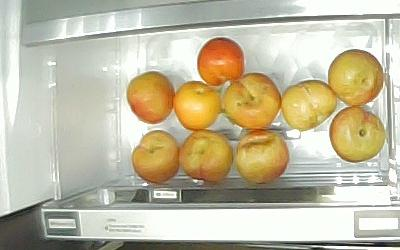prune: (223, 73, 283, 129), (329, 50, 385, 107), (330, 107, 386, 162), (233, 131, 290, 184), (179, 130, 233, 183), (282, 80, 337, 131), (132, 129, 180, 184), (127, 71, 176, 124), (173, 82, 222, 129), (197, 38, 246, 84)
